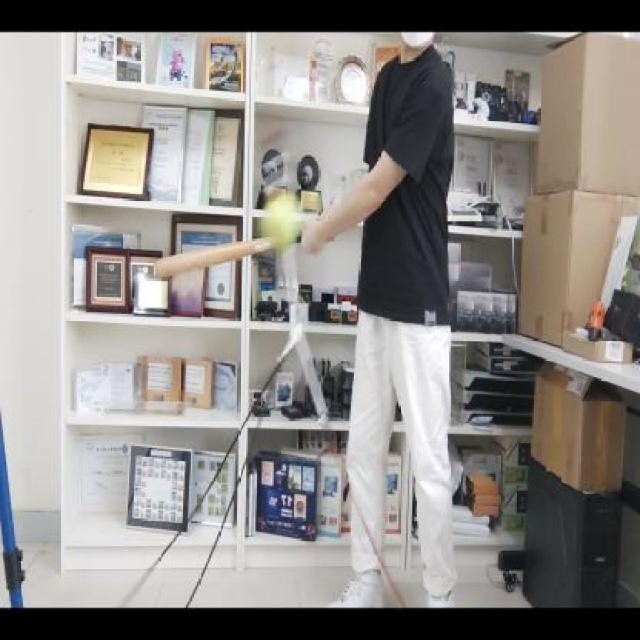baseball: (259, 188, 303, 252)
